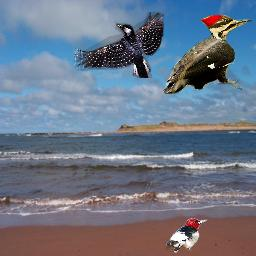Woodpecker: (163, 15, 254, 94), (74, 12, 164, 78), (166, 218, 208, 253)
